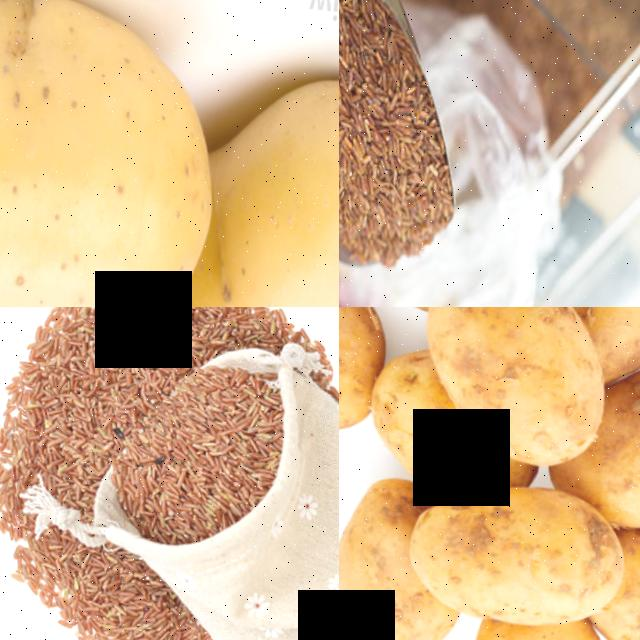potato: (0, 0, 251, 307), (137, 49, 339, 307), (394, 307, 633, 492), (381, 465, 628, 640), (556, 344, 640, 554), (339, 472, 435, 640), (339, 307, 398, 446), (558, 307, 640, 389)
red rice: (0, 307, 229, 510), (339, 0, 470, 273), (98, 361, 283, 550), (0, 530, 194, 640)
